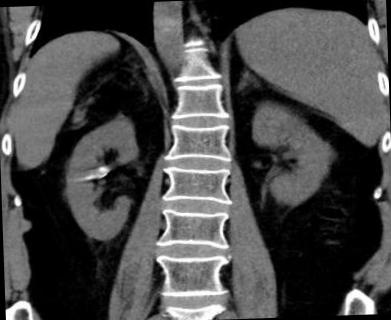Tas_Var: (97, 171, 109, 179), (84, 173, 94, 180), (98, 165, 106, 172)
